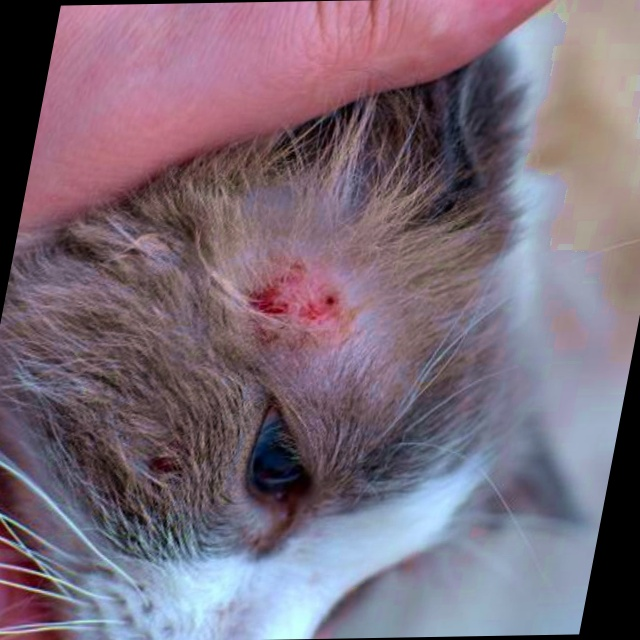ringworm: (240, 260, 367, 330)
